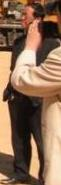boots: (0, 175, 30, 184), (0, 144, 9, 152)
